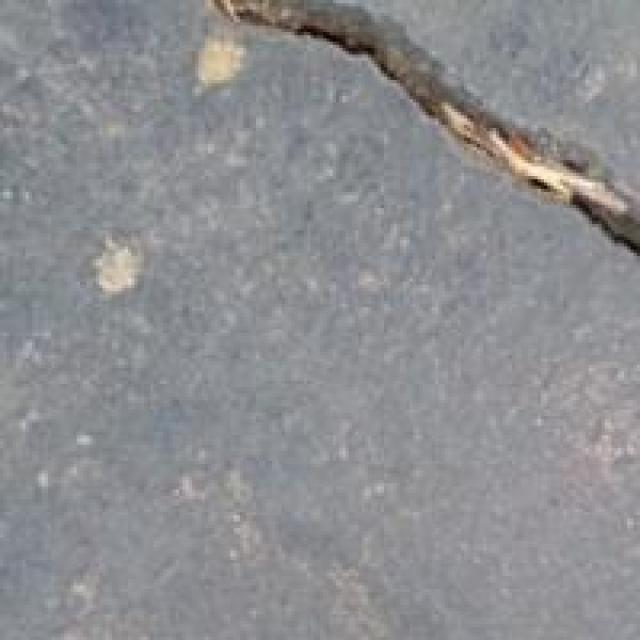Crack: (211, 0, 637, 330)
